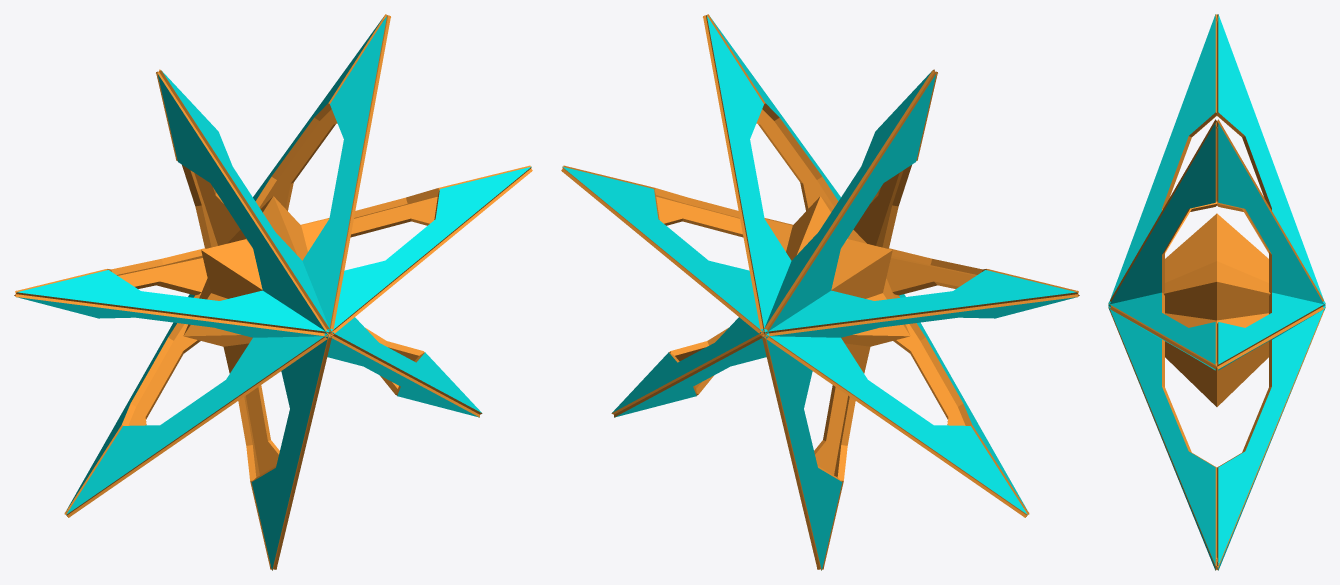
The model's file is HeptagrammicDipyramidS.glb.
The picture shows the model from 3 angles, left to right: view 1: azimuth 30°, elevation 25°; view 2: azimuth 150°, elevation 25°; view 3: azimuth 270°, elevation 25°; orthographic projection. The views are drawn at different scales.
Parts seen in each view (by area): view 1: Mesh_1003_1, Mesh_1003, Mesh_0012; view 2: Mesh_1003_1, Mesh_1003, Mesh_0012; view 3: Mesh_1003_1, Mesh_0012, Mesh_1003.
Part boxes in pixels (x1=…): Mesh_1003_1: x1=16, y1=16, x2=531, y2=570; Mesh_1003: x1=14, y1=14, x2=532, y2=570; Mesh_0012: x1=183, y1=196, x2=328, y2=373; Mesh_1003_1: x1=562, y1=16, x2=1077, y2=570; Mesh_1003: x1=561, y1=14, x2=1079, y2=570; Mesh_0012: x1=765, y1=196, x2=910, y2=373; Mesh_1003_1: x1=1108, y1=14, x2=1325, y2=570; Mesh_0012: x1=1163, y1=213, x2=1270, y2=406; Mesh_1003: x1=1108, y1=14, x2=1325, y2=570.
Bounding box in the file's own units: 4.6 × 4.48 × 1.76.
